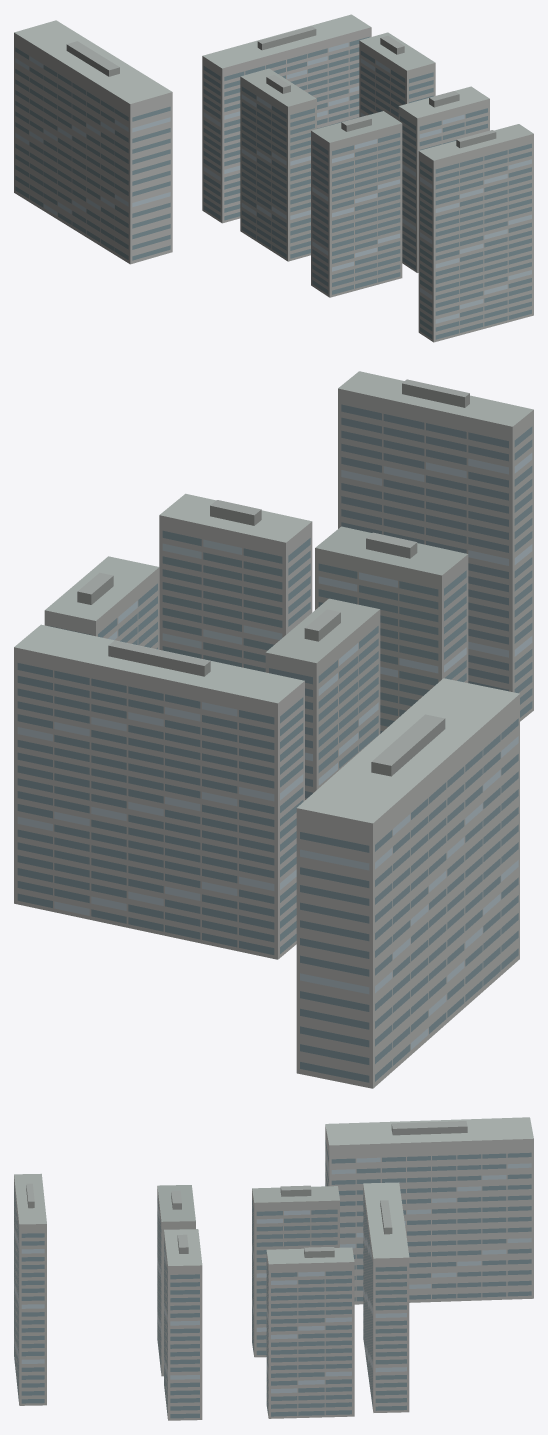
The model's file is apt-a13285404.glb.
3 views of the same model, one above another, from view 1: azimuth 30°, elevation 25°; view 2: azimuth 150°, elevation 25°; view 3: azimuth 270°, elevation 25° (orthographic). The views are drawn at different scales.
Parts seen in each view (by area): view 1: apt-a13285404; view 2: apt-a13285404; view 3: apt-a13285404.
Part boxes in pixels (x1,y1,x2,y2): apt-a13285404: (14, 14, 533, 342); apt-a13285404: (14, 371, 533, 1088); apt-a13285404: (14, 1117, 533, 1420).
Size of the model in its own units: 115 by 70 by 176.
